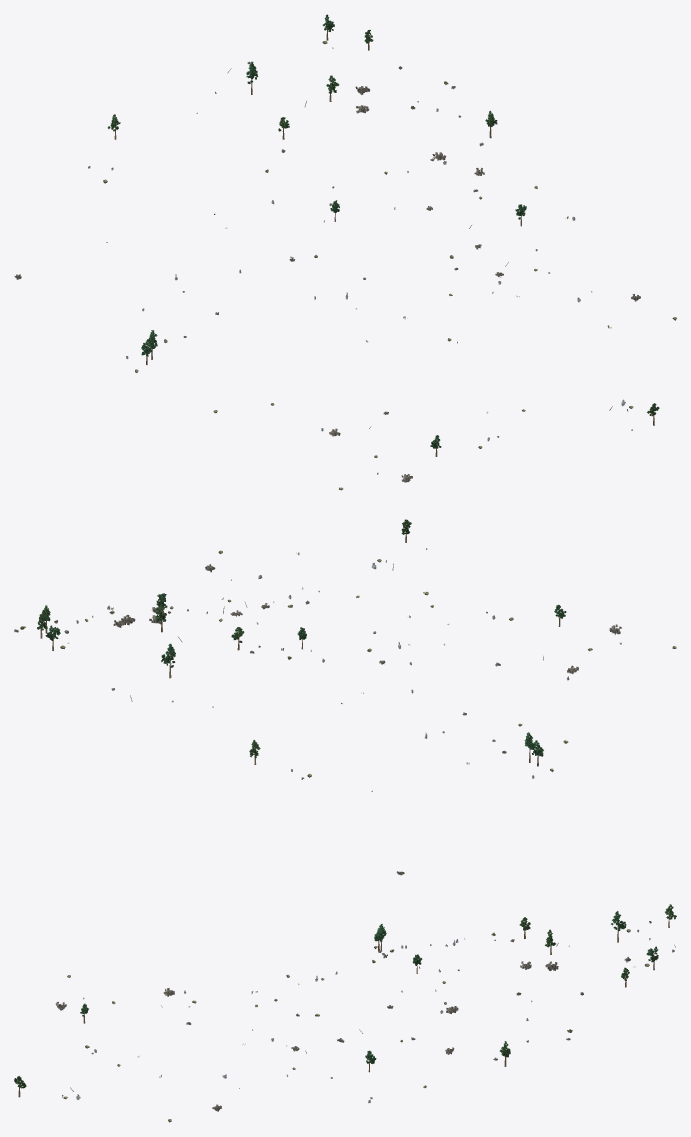
The model's file is coast_land_scatter_c09_22.glb.
3 views of the same model, one above another, from view 1: azimuth 30°, elevation 25°; view 2: azimuth 150°, elevation 25°; view 3: azimuth 270°, elevation 25° (orthographic). The views are drawn at different scales.
Visible parts, largest first — view 1: coast_land_scatter_c09_22; view 2: coast_land_scatter_c09_22; view 3: coast_land_scatter_c09_22.
Part boxes in pixels (x1,y1,x2,y2): coast_land_scatter_c09_22: [14, 14, 676, 490]; coast_land_scatter_c09_22: [14, 519, 676, 875]; coast_land_scatter_c09_22: [14, 904, 676, 1122].
Bounding box in the file's own units: 183 × 72.94 × 254.
